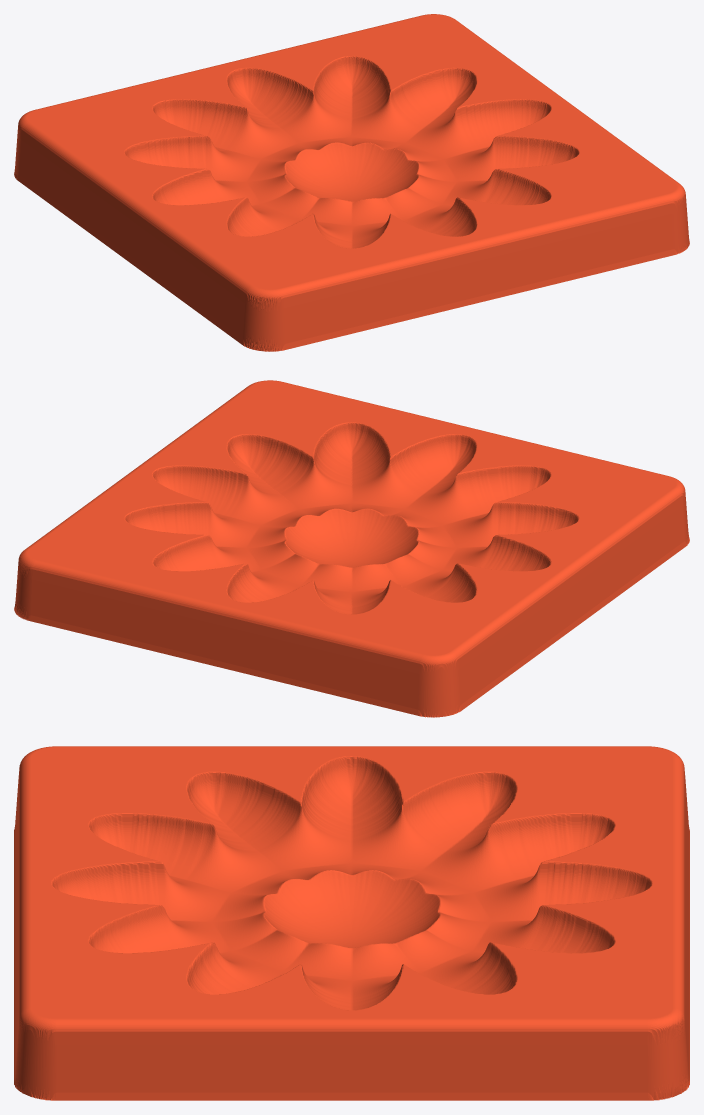
Rendered from mold.glb.
3 views of the same model, one above another, from view 1: azimuth 30°, elevation 25°; view 2: azimuth 150°, elevation 25°; view 3: azimuth 270°, elevation 25° (orthographic). The views are drawn at different scales.
Visible parts, largest first — view 1: geometry_0; view 2: geometry_0; view 3: geometry_0.
Boxes of the visible parts, x1,y1,x2,y2 form: geometry_0: (14, 14, 689, 351); geometry_0: (14, 380, 689, 717); geometry_0: (14, 746, 689, 1100).
Bounding box in the file's own units: 0.1435 × 0.0175 × 0.1435.
